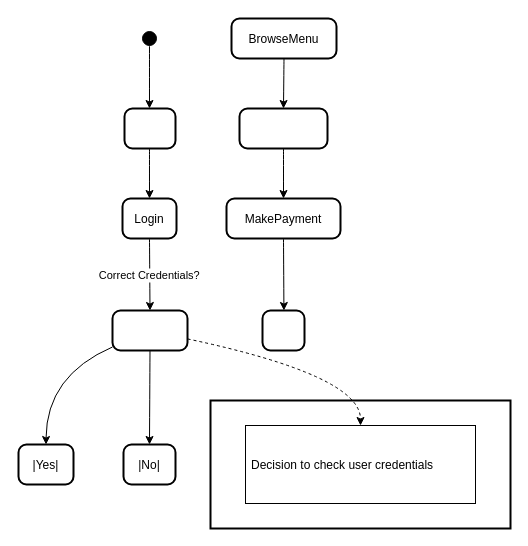
The diagram is 528 pixels wide and 546 high, and some of its shapes have lost their labels. The shapes that lost their labels are listed below. From the top down, each one's centre as x and y in pixels, then its label:
point 149,128: Start
point 283,128: BookTable
point 149,330: Decision
point 283,330: End
